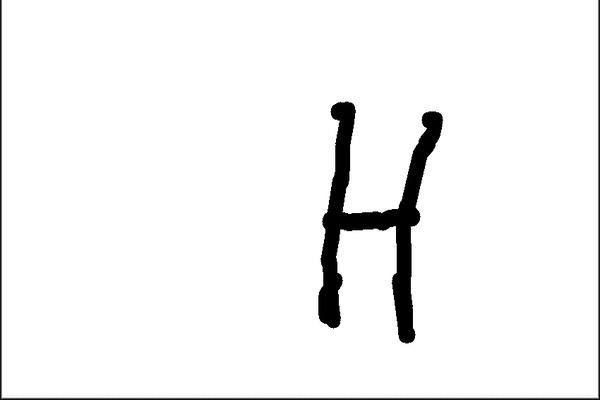H: (309, 90, 445, 352)
